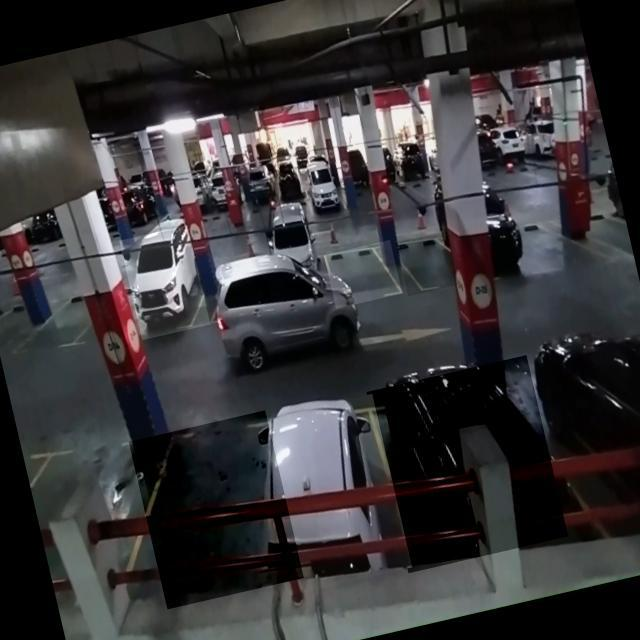empty: (128, 410, 304, 609), (323, 239, 402, 308), (396, 230, 458, 296)
occupied: (366, 354, 568, 572), (249, 393, 412, 595), (119, 224, 210, 340)
